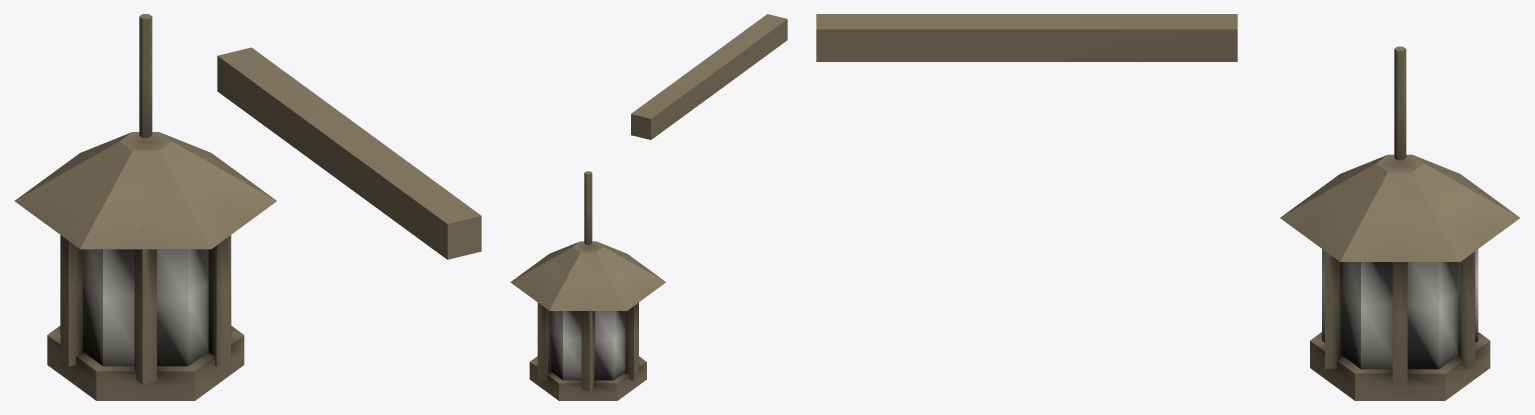
Rendered from lantern.glb.
3 renders of one model, left to right at view 1: azimuth 30°, elevation 25°; view 2: azimuth 150°, elevation 25°; view 3: azimuth 270°, elevation 25°, orthographic. The views are drawn at different scales.
Visible parts, largest first — view 1: Cone.001, Cube, Cone.002, Cone.003, Cube.005, Cube.004, Cube.006, Cone; view 2: Cone.001, Cube, Cone.002, Cone.003, Cube.003, Cube.002, Cube.004, Cone; view 3: Cube, Cone.001, Cone.002, Cone.003, Cube.001, Cube.002, Cube.006, Cone.
Boxes of the visible parts, x1,y1,x2,y2 form: Cone.001: (14, 132, 276, 249); Cube: (217, 47, 481, 259); Cone.002: (60, 235, 231, 366); Cone.003: (47, 326, 244, 400); Cube.005: (134, 229, 156, 384); Cube.004: (60, 235, 82, 366); Cube.006: (208, 208, 230, 366); Cone: (139, 14, 152, 137); Cone.001: (510, 241, 665, 310); Cube: (631, 14, 787, 139); Cone.002: (551, 311, 625, 380); Cone.003: (529, 356, 646, 400); Cube.003: (581, 299, 594, 391); Cube.002: (537, 286, 550, 380); Cube.004: (625, 302, 638, 380); Cone: (584, 171, 592, 244); Cube: (816, 14, 1237, 61); Cone.001: (1280, 154, 1519, 261); Cone.002: (1322, 249, 1478, 369); Cone.003: (1310, 332, 1490, 400); Cube.001: (1392, 262, 1407, 384); Cube.002: (1460, 226, 1475, 368); Cube.006: (1325, 226, 1339, 368); Cone: (1394, 46, 1406, 160).
Size of the model in its own units: 0.3464 by 0.635 by 1.17.
